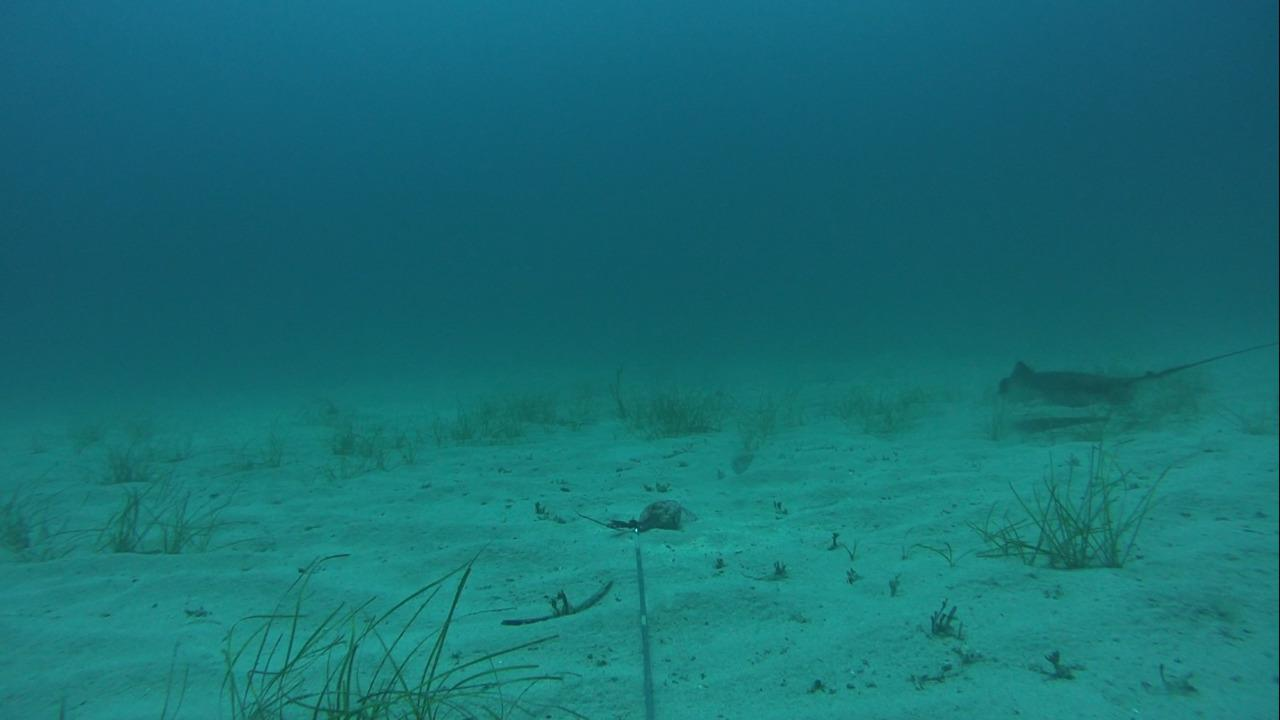myliobatis: (987, 338, 1279, 416)
raor: (725, 429, 769, 475)
